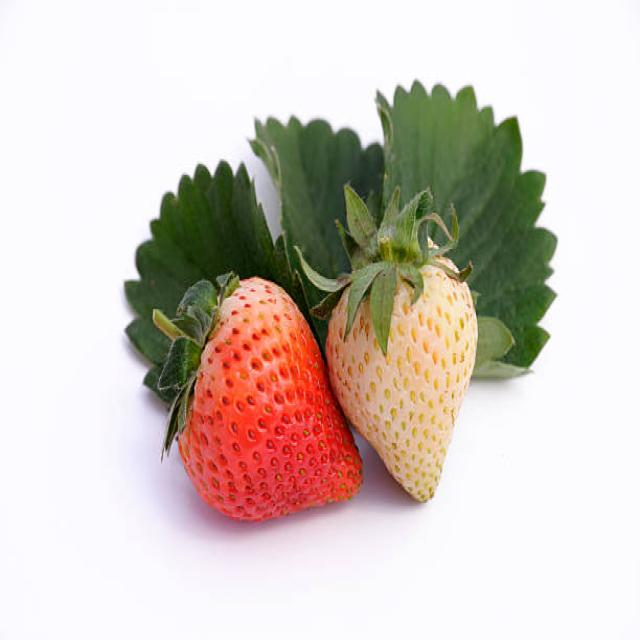Healthy Fruit: (177, 278, 364, 518), (327, 238, 478, 505)
